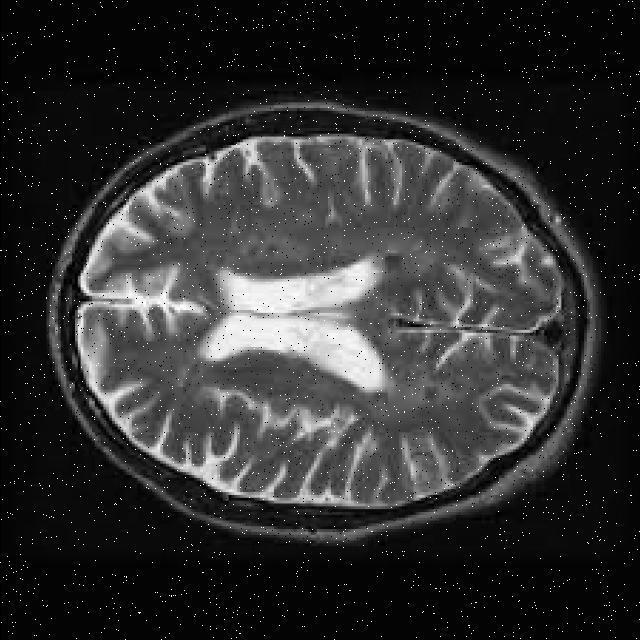No_Tumor: (48, 102, 600, 541)
